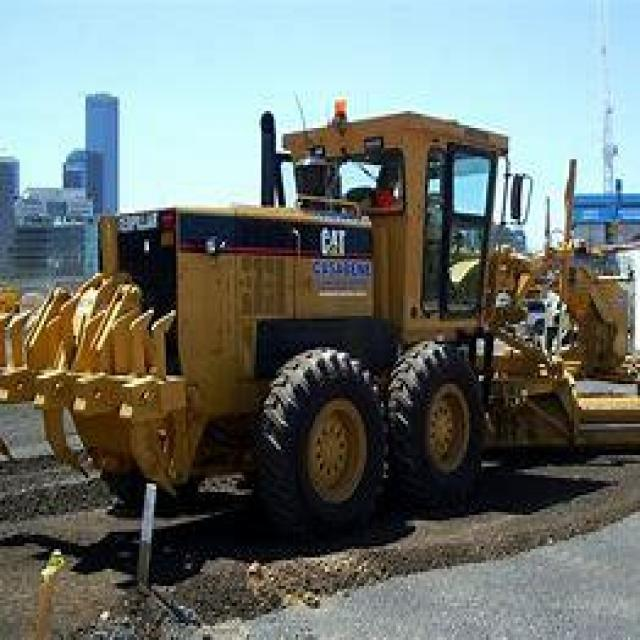Grader: (5, 60, 637, 526)
